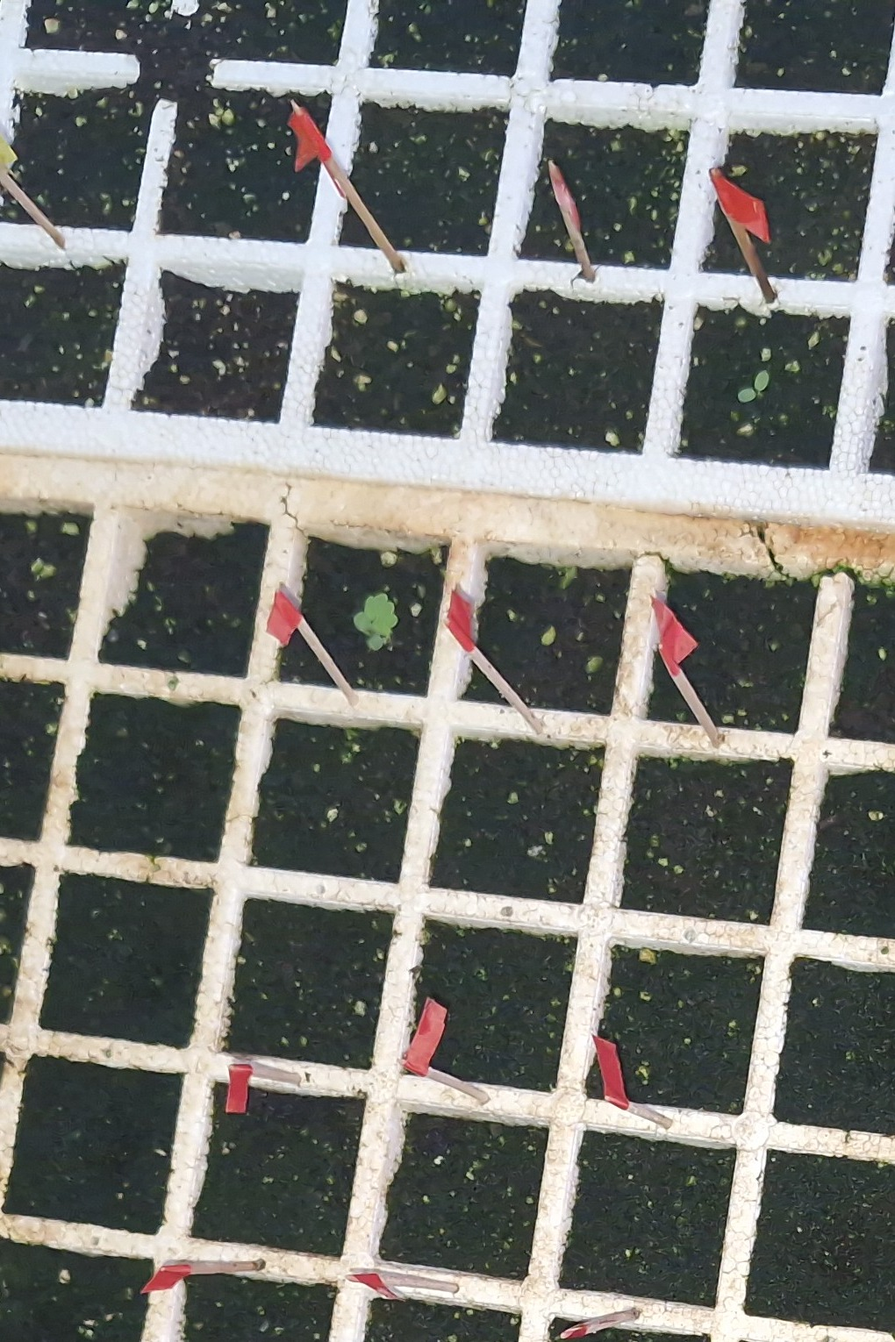Folha: (364, 594, 396, 636), (355, 613, 370, 631), (369, 636, 383, 650)
Germinacao: (356, 594, 397, 651)
